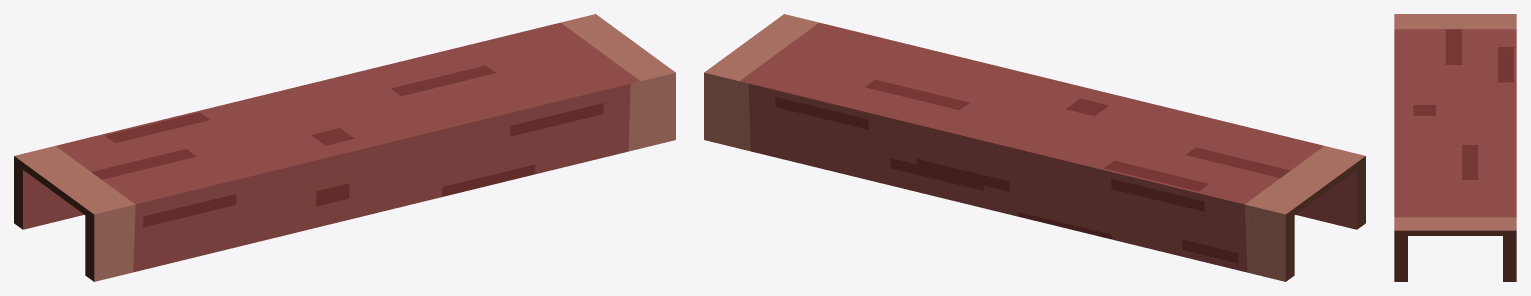
The model's file is log.FBX.
3 renders of one model, left to right at view 1: azimuth 30°, elevation 25°; view 2: azimuth 150°, elevation 25°; view 3: azimuth 270°, elevation 25°, orthographic. The views are drawn at different scales.
Visible parts, largest first — view 1: log; view 2: log; view 3: log.
Boxes of the visible parts, left/top/right/bottom form: log: left=14, top=14, right=675, bottom=281; log: left=704, top=14, right=1365, bottom=281; log: left=1394, top=14, right=1516, bottom=281.
Bounding box in the file's own units: 8.33 × 0.9234 × 1.99.
1 material, 1 textured.
